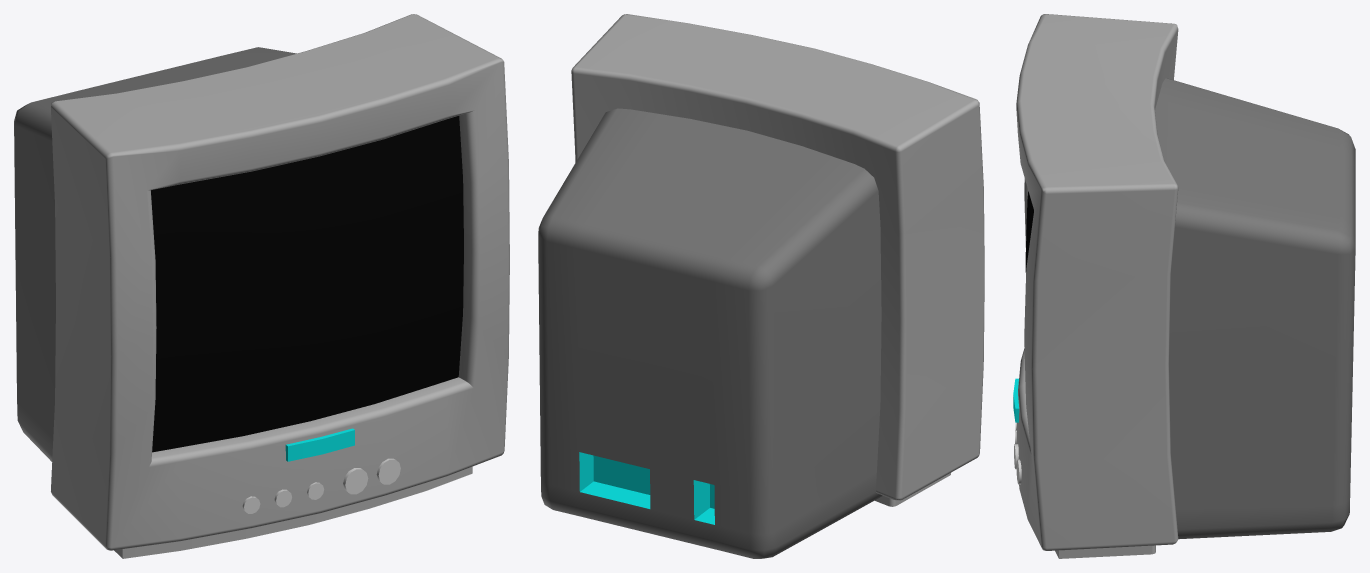
3 renders of one model, left to right at view 1: azimuth 30°, elevation 25°; view 2: azimuth 150°, elevation 25°; view 3: azimuth 270°, elevation 25°, orthographic. The views are drawn at different scales.
Visible parts, largest first — view 1: tv; view 2: tv; view 3: tv.
Part boxes in pixels (box(x1,y1,x2,y2)): tv: box(14, 14, 509, 558); tv: box(538, 14, 984, 558); tv: box(1013, 14, 1355, 558).
Bounding box in the file's own units: 49.85 × 49.75 × 40.59.
